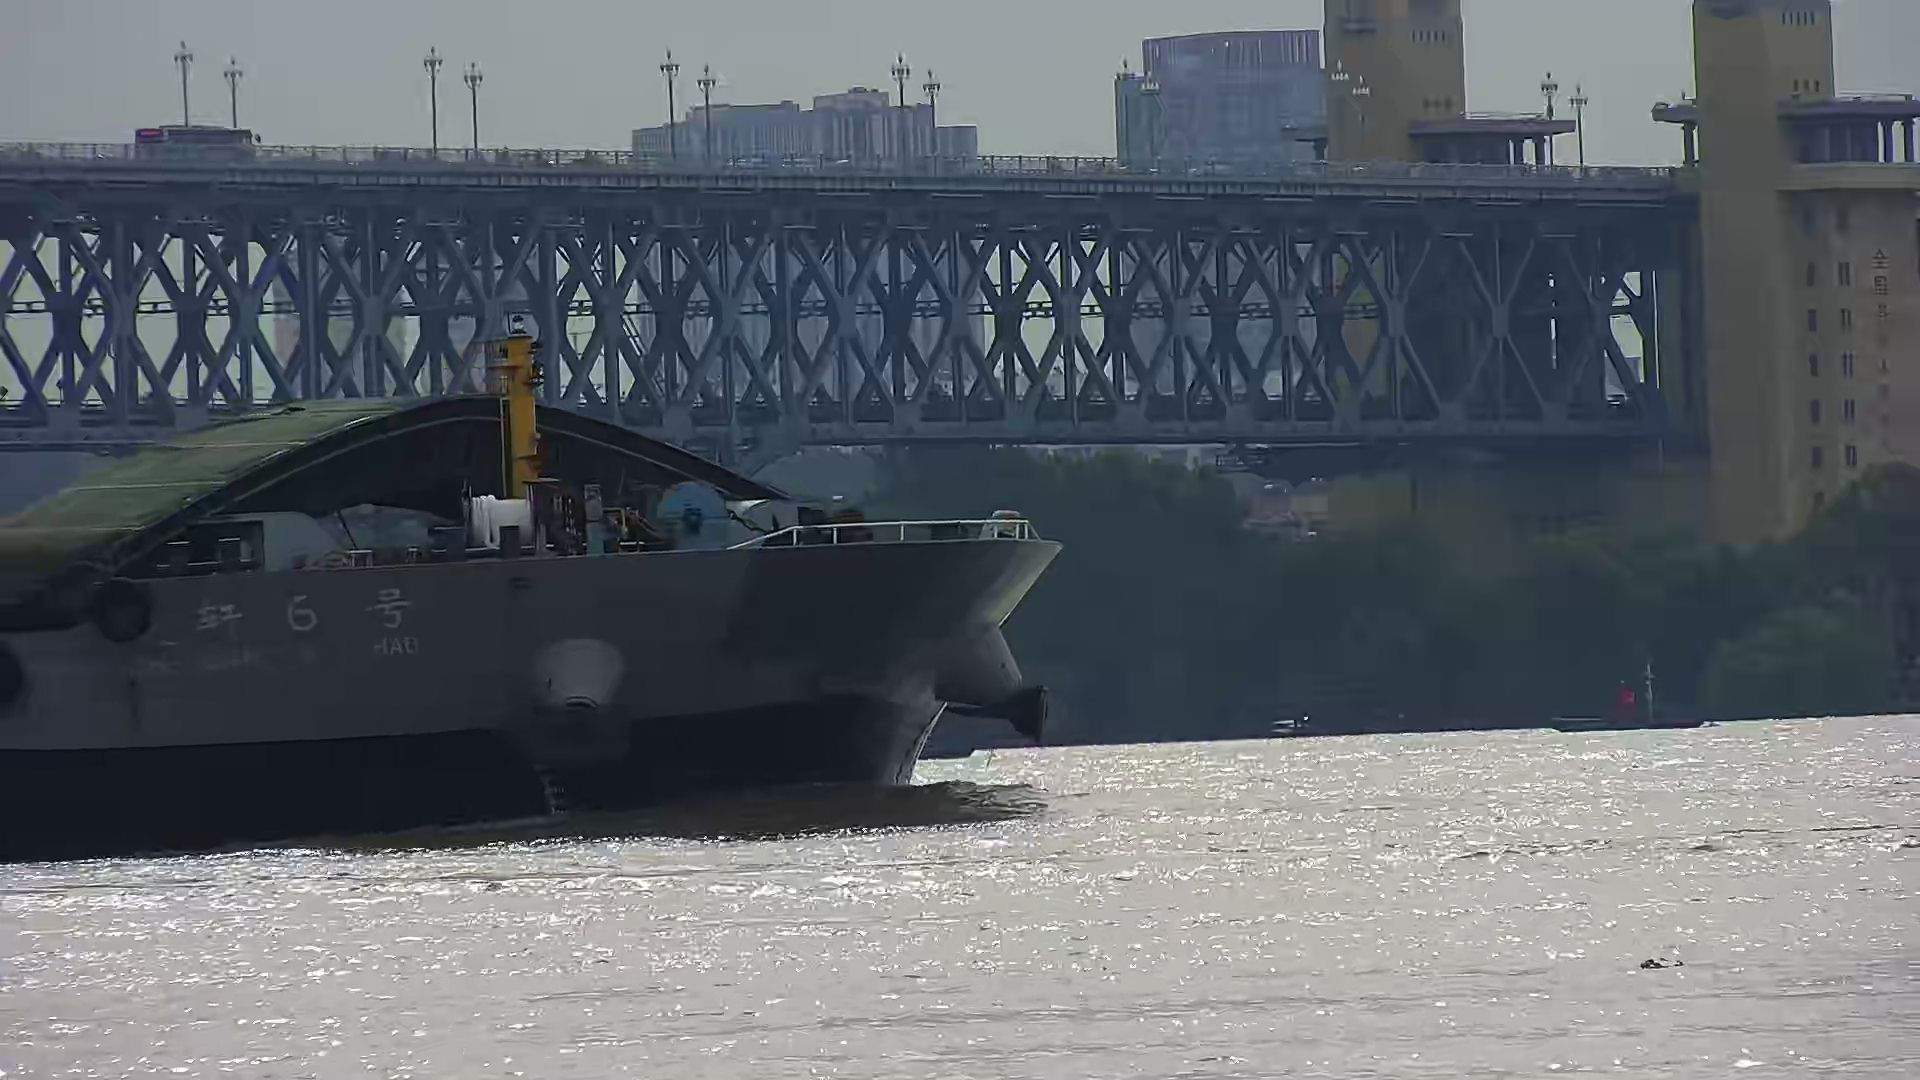boat: (1538, 669, 1733, 752)
bridge: (4, 32, 1755, 647)
ship: (1, 332, 1077, 851)
